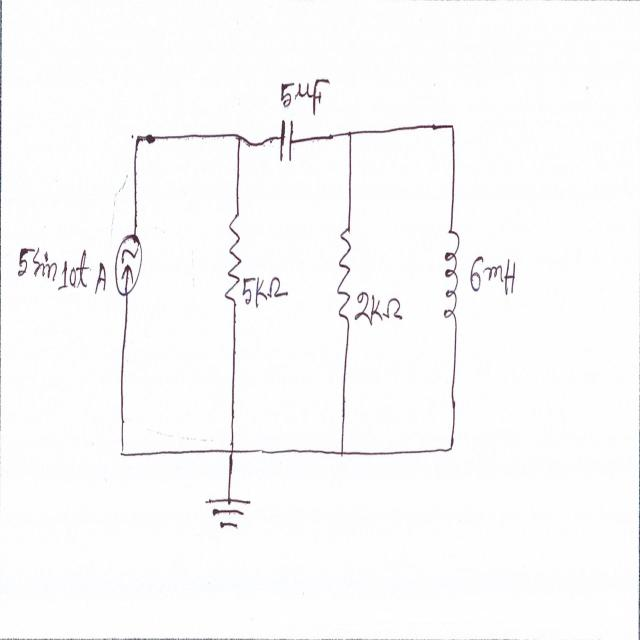capacitor: (274, 111, 298, 168)
current_source: (113, 226, 145, 302)
ground: (205, 487, 255, 538)
inductor: (442, 226, 459, 338)
resistor: (223, 201, 242, 312), (336, 223, 352, 331)
